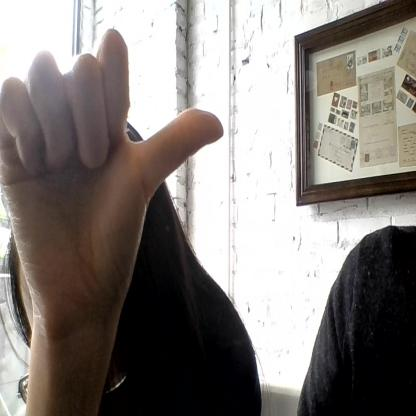left: (2, 29, 224, 306)
